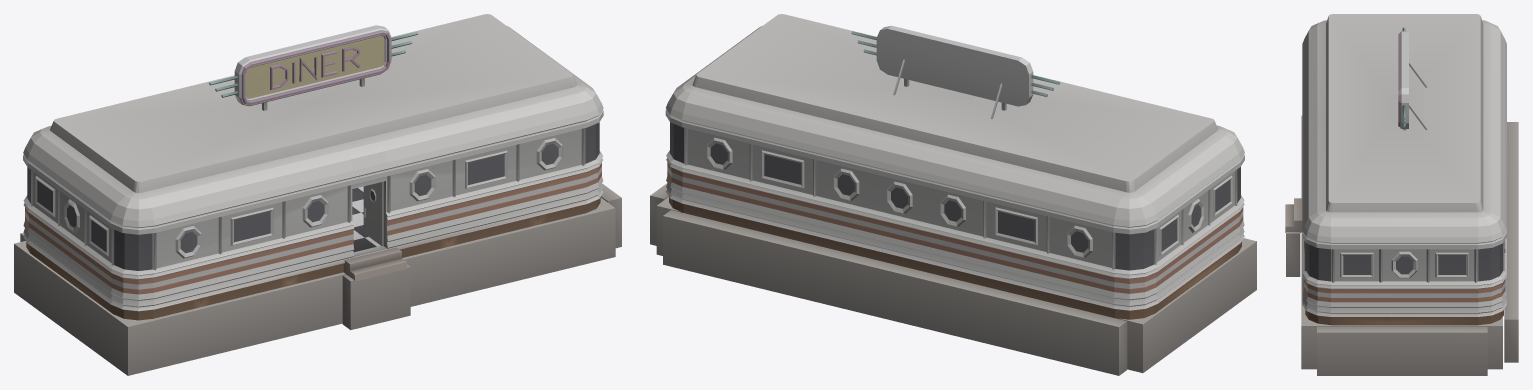
File: diner.glb
3 views of the same model, side by side, from view 1: azimuth 30°, elevation 25°; view 2: azimuth 150°, elevation 25°; view 3: azimuth 270°, elevation 25° (orthographic). The views are drawn at different scales.
Parts seen in each view (by area): view 1: diner; view 2: diner; view 3: diner.
Part boxes in pixels (bbox=[...]): diner: bbox=[14, 14, 621, 375]; diner: bbox=[650, 14, 1256, 375]; diner: bbox=[1285, 14, 1518, 375].
Size of the model in its own units: 16.48 by 7.22 by 7.48.
